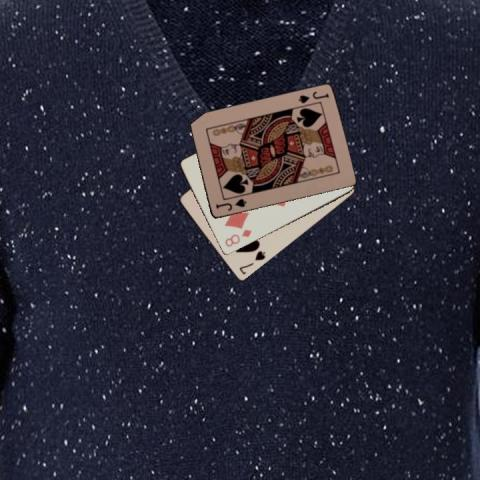7s: (236, 248, 267, 276)
8d: (222, 227, 253, 248)
Js: (213, 196, 248, 213), (295, 88, 330, 104)
